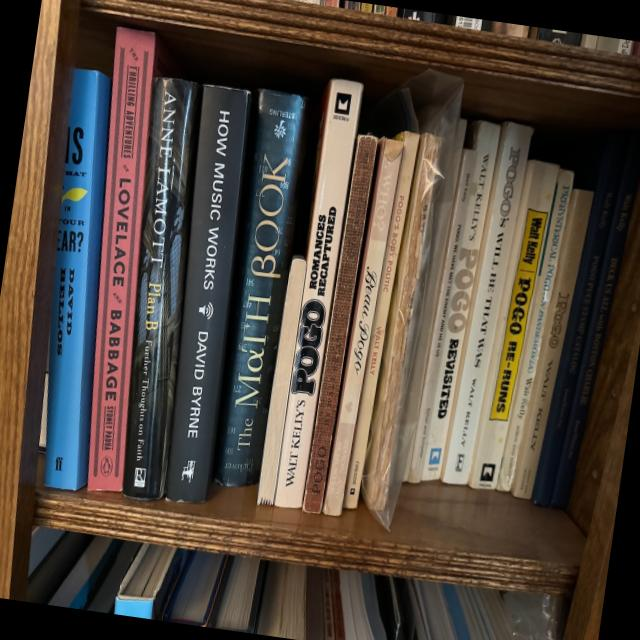book: (65, 27, 174, 493), (268, 77, 364, 509), (212, 89, 309, 489), (527, 131, 630, 507), (163, 85, 250, 503), (437, 121, 533, 488), (120, 77, 201, 501), (549, 134, 640, 511), (317, 138, 405, 517), (334, 129, 421, 511), (463, 158, 561, 493), (415, 119, 502, 483), (41, 68, 112, 491), (301, 133, 379, 514), (494, 168, 577, 493), (510, 188, 595, 501), (405, 148, 477, 484)
